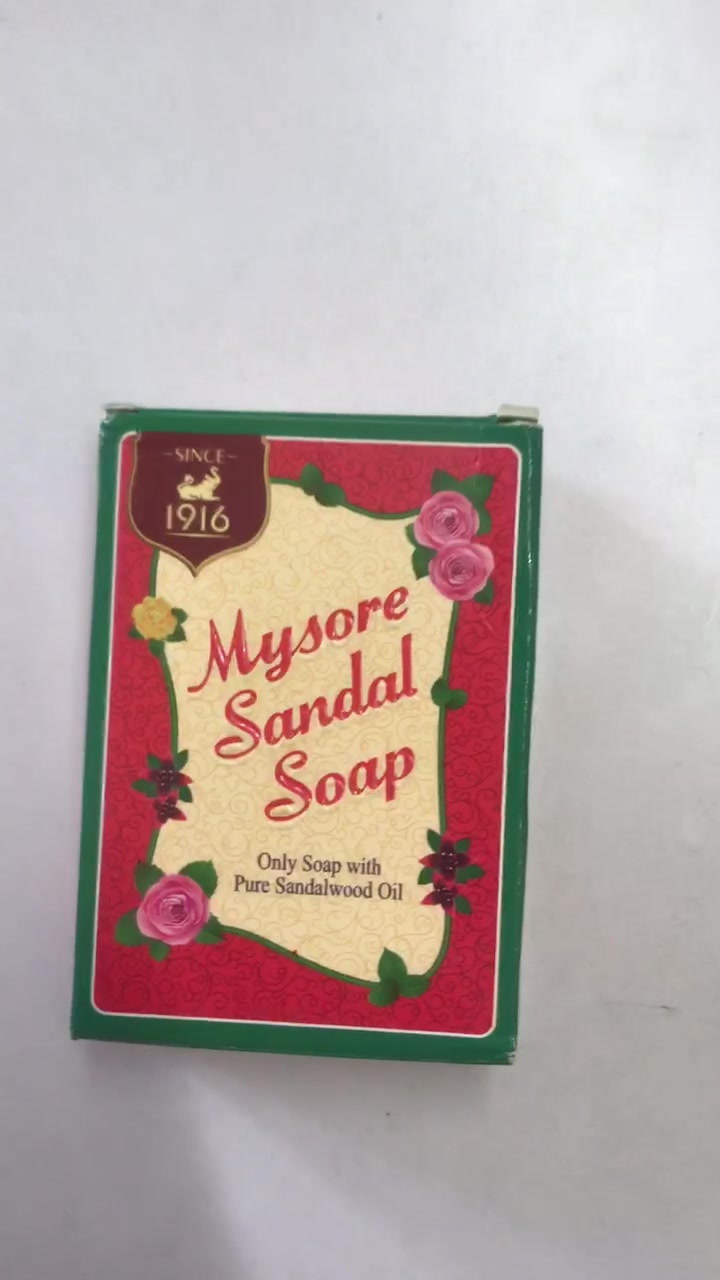mysore sandal soap: (73, 407, 544, 1063)
